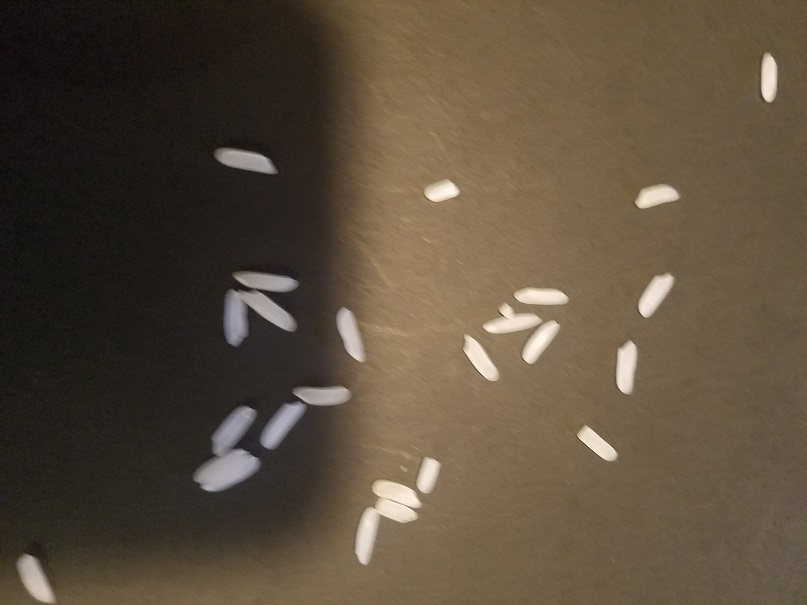egg: (238, 288, 300, 337), (257, 400, 314, 453), (208, 406, 258, 456), (200, 454, 262, 494), (14, 552, 59, 605), (190, 449, 253, 484), (634, 270, 677, 319), (519, 319, 564, 365), (460, 334, 502, 383), (334, 304, 368, 364), (353, 504, 381, 570), (214, 144, 277, 172), (575, 424, 620, 463), (370, 477, 422, 510), (614, 337, 639, 396), (482, 311, 545, 334), (225, 290, 249, 350), (231, 269, 299, 290), (633, 182, 682, 210), (292, 385, 352, 407), (758, 49, 780, 106), (375, 497, 418, 526), (414, 454, 443, 493), (512, 285, 570, 304), (421, 178, 461, 203)
